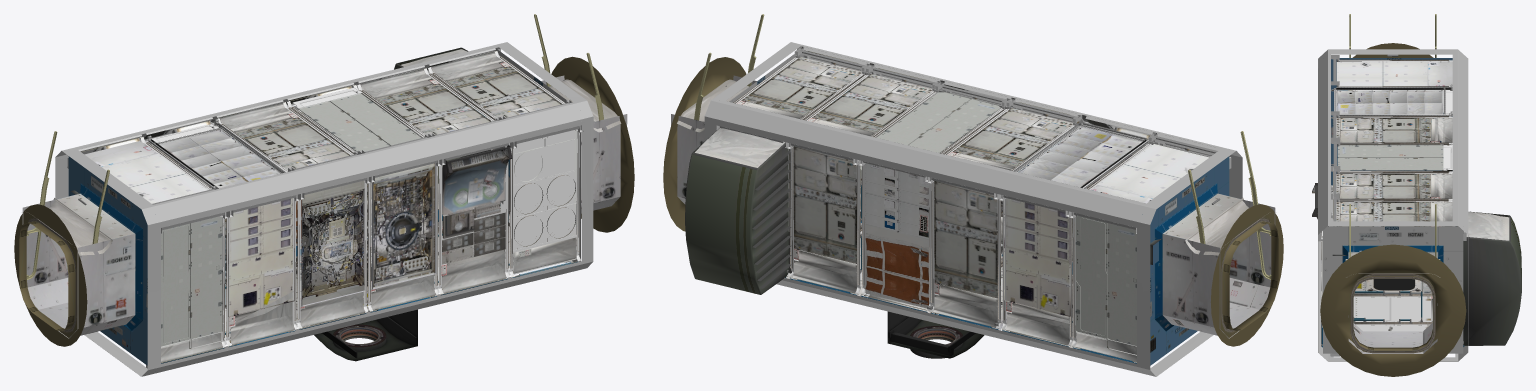
The model's file is us_lab.dae.
3 renders of one model, left to right at view 1: azimuth 30°, elevation 25°; view 2: azimuth 150°, elevation 25°; view 3: azimuth 270°, elevation 25°, orthographic. The views are drawn at different scales.
Parts seen in each view (by area): view 1: US_Lab_Int_AFT_Bulkhead; view 2: US_Lab_Int_AFT_Bulkhead; view 3: US_Lab_Int_AFT_Bulkhead.
Boxes of the visible parts, x1,y1,x2,y2 form: US_Lab_Int_AFT_Bulkhead: (14, 14, 634, 376); US_Lab_Int_AFT_Bulkhead: (663, 14, 1283, 376); US_Lab_Int_AFT_Bulkhead: (1312, 14, 1521, 376).
Size of the model in its own units: 7.73 by 3.11 by 3.51.
Materials: 9 (9 with a texture image).
